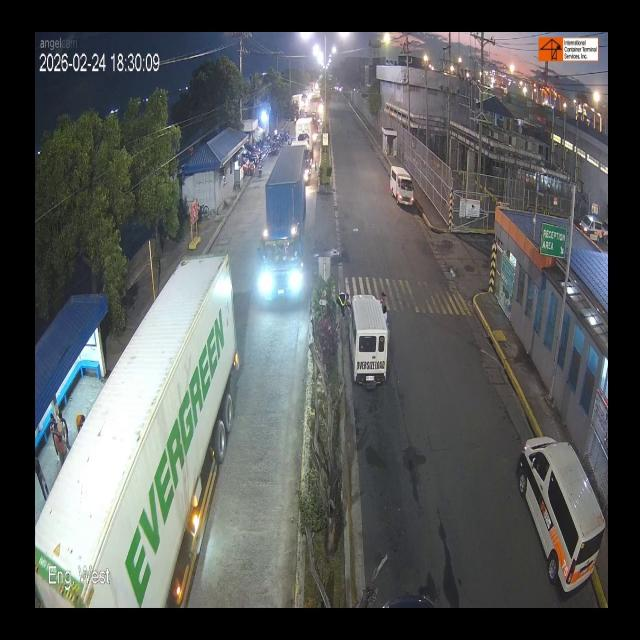car: (518, 410, 597, 586), (352, 298, 389, 388), (387, 160, 425, 212)
truck: (36, 244, 258, 614), (259, 144, 320, 315)
